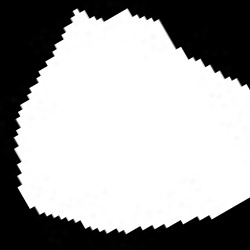spot: (18, 9, 247, 232)
